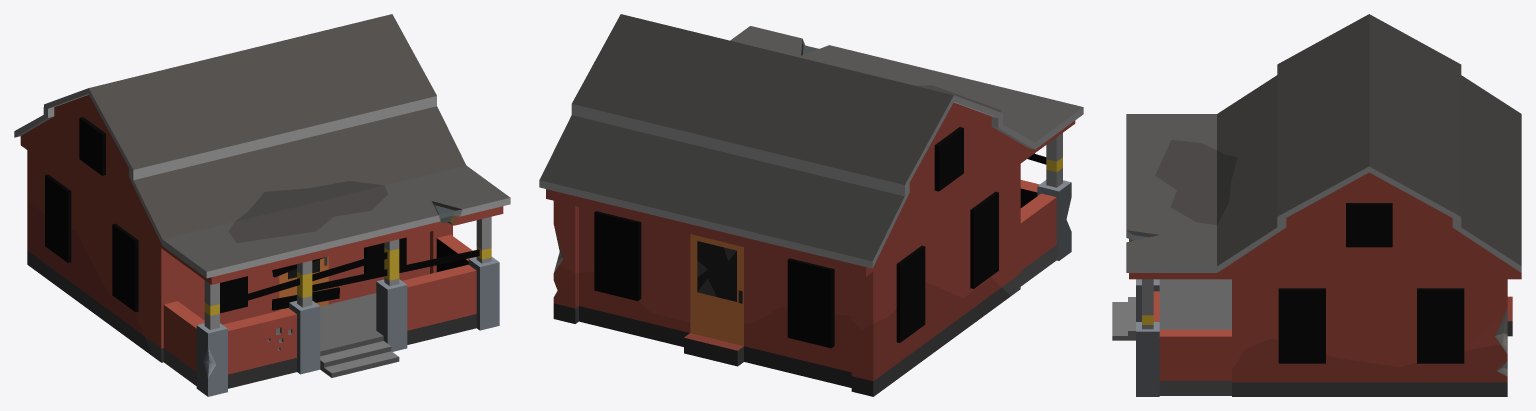
Rendered from SA_Bld_HouseSmallA_Damaged_01.gltf.
3 views of the same model, side by side, from view 1: azimuth 30°, elevation 25°; view 2: azimuth 150°, elevation 25°; view 3: azimuth 270°, elevation 25° (orthographic). The views are drawn at different scales.
Parts seen in each view (by area): view 1: SA_Bld_HouseSmallA_Damaged_01; view 2: SA_Bld_HouseSmallA_Damaged_01; view 3: SA_Bld_HouseSmallA_Damaged_01.
Part boxes in pixels (x1=…): SA_Bld_HouseSmallA_Damaged_01: x1=14, y1=14, x2=510, y2=396; SA_Bld_HouseSmallA_Damaged_01: x1=539, y1=14, x2=1083, y2=396; SA_Bld_HouseSmallA_Damaged_01: x1=1112, y1=14, x2=1521, y2=396.
Size of the model in its own units: 14.19 by 10.14 by 16.1.
1 material, 1 textured.
